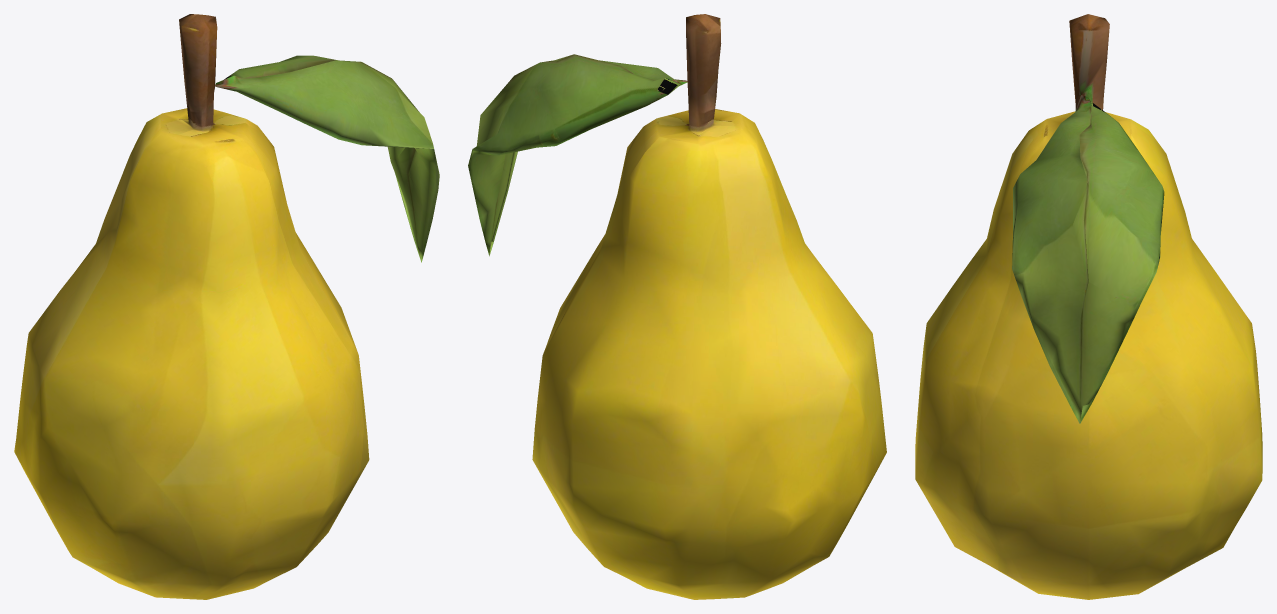
Rendered from gruhca_blender_3.glb.
3 renders of one model, left to right at view 1: azimuth 30°, elevation 25°; view 2: azimuth 150°, elevation 25°; view 3: azimuth 270°, elevation 25°, orthographic.
Visible parts, largest first — view 1: Mesh1; view 2: Mesh1; view 3: Mesh1.
Boxes of the visible parts, x1,y1,x2,y2 form: Mesh1: (14, 14, 439, 599); Mesh1: (468, 14, 886, 599); Mesh1: (915, 14, 1262, 599).
Bounding box in the file's own units: 1.4 × 1.97 × 1.09.
1 material, 1 textured.
